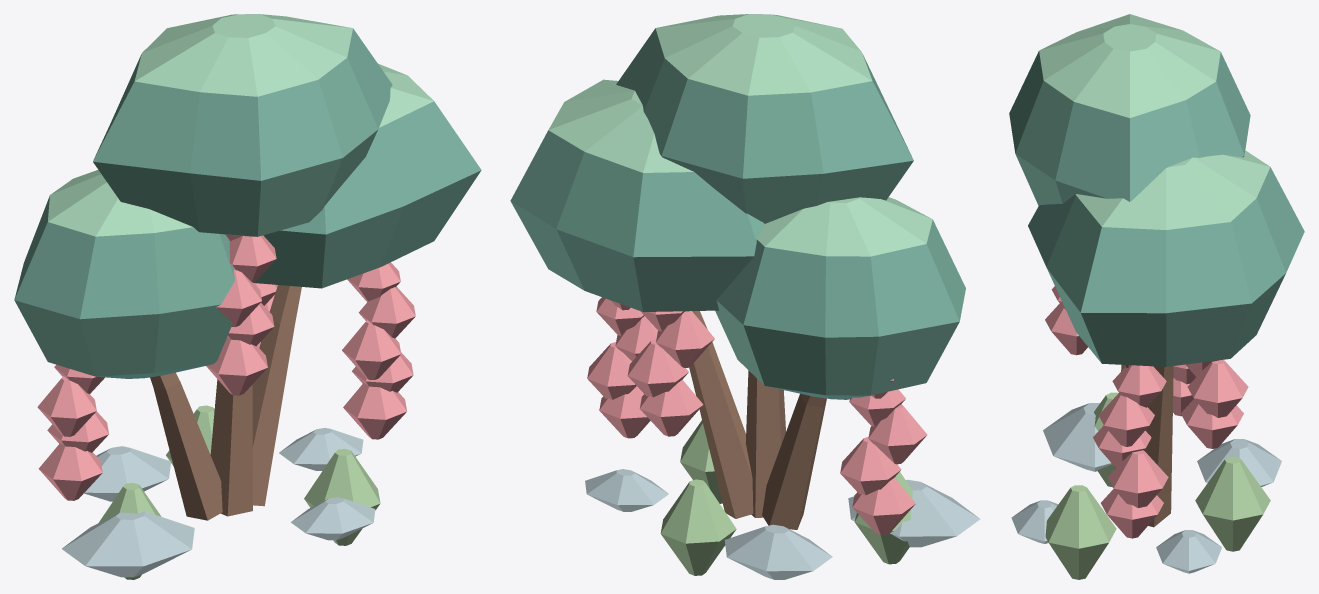
The model's file is lagoon_shrub_red_flowering_currant_b.glb.
The picture shows the model from 3 angles, left to right: view 1: azimuth 30°, elevation 25°; view 2: azimuth 150°, elevation 25°; view 3: azimuth 270°, elevation 25°; orthographic projection. The views are drawn at different scales.
Parts seen in each view (by area): view 1: lagoon_shrub_red_flowering_currant_b.001; view 2: lagoon_shrub_red_flowering_currant_b.001; view 3: lagoon_shrub_red_flowering_currant_b.001.
Boxes of the visible parts, bbox=[...] form: lagoon_shrub_red_flowering_currant_b.001: bbox=[14, 14, 481, 579]; lagoon_shrub_red_flowering_currant_b.001: bbox=[510, 14, 980, 579]; lagoon_shrub_red_flowering_currant_b.001: bbox=[1009, 14, 1304, 579].
Size of the model in its own units: 1.98 by 2.29 by 1.22.
